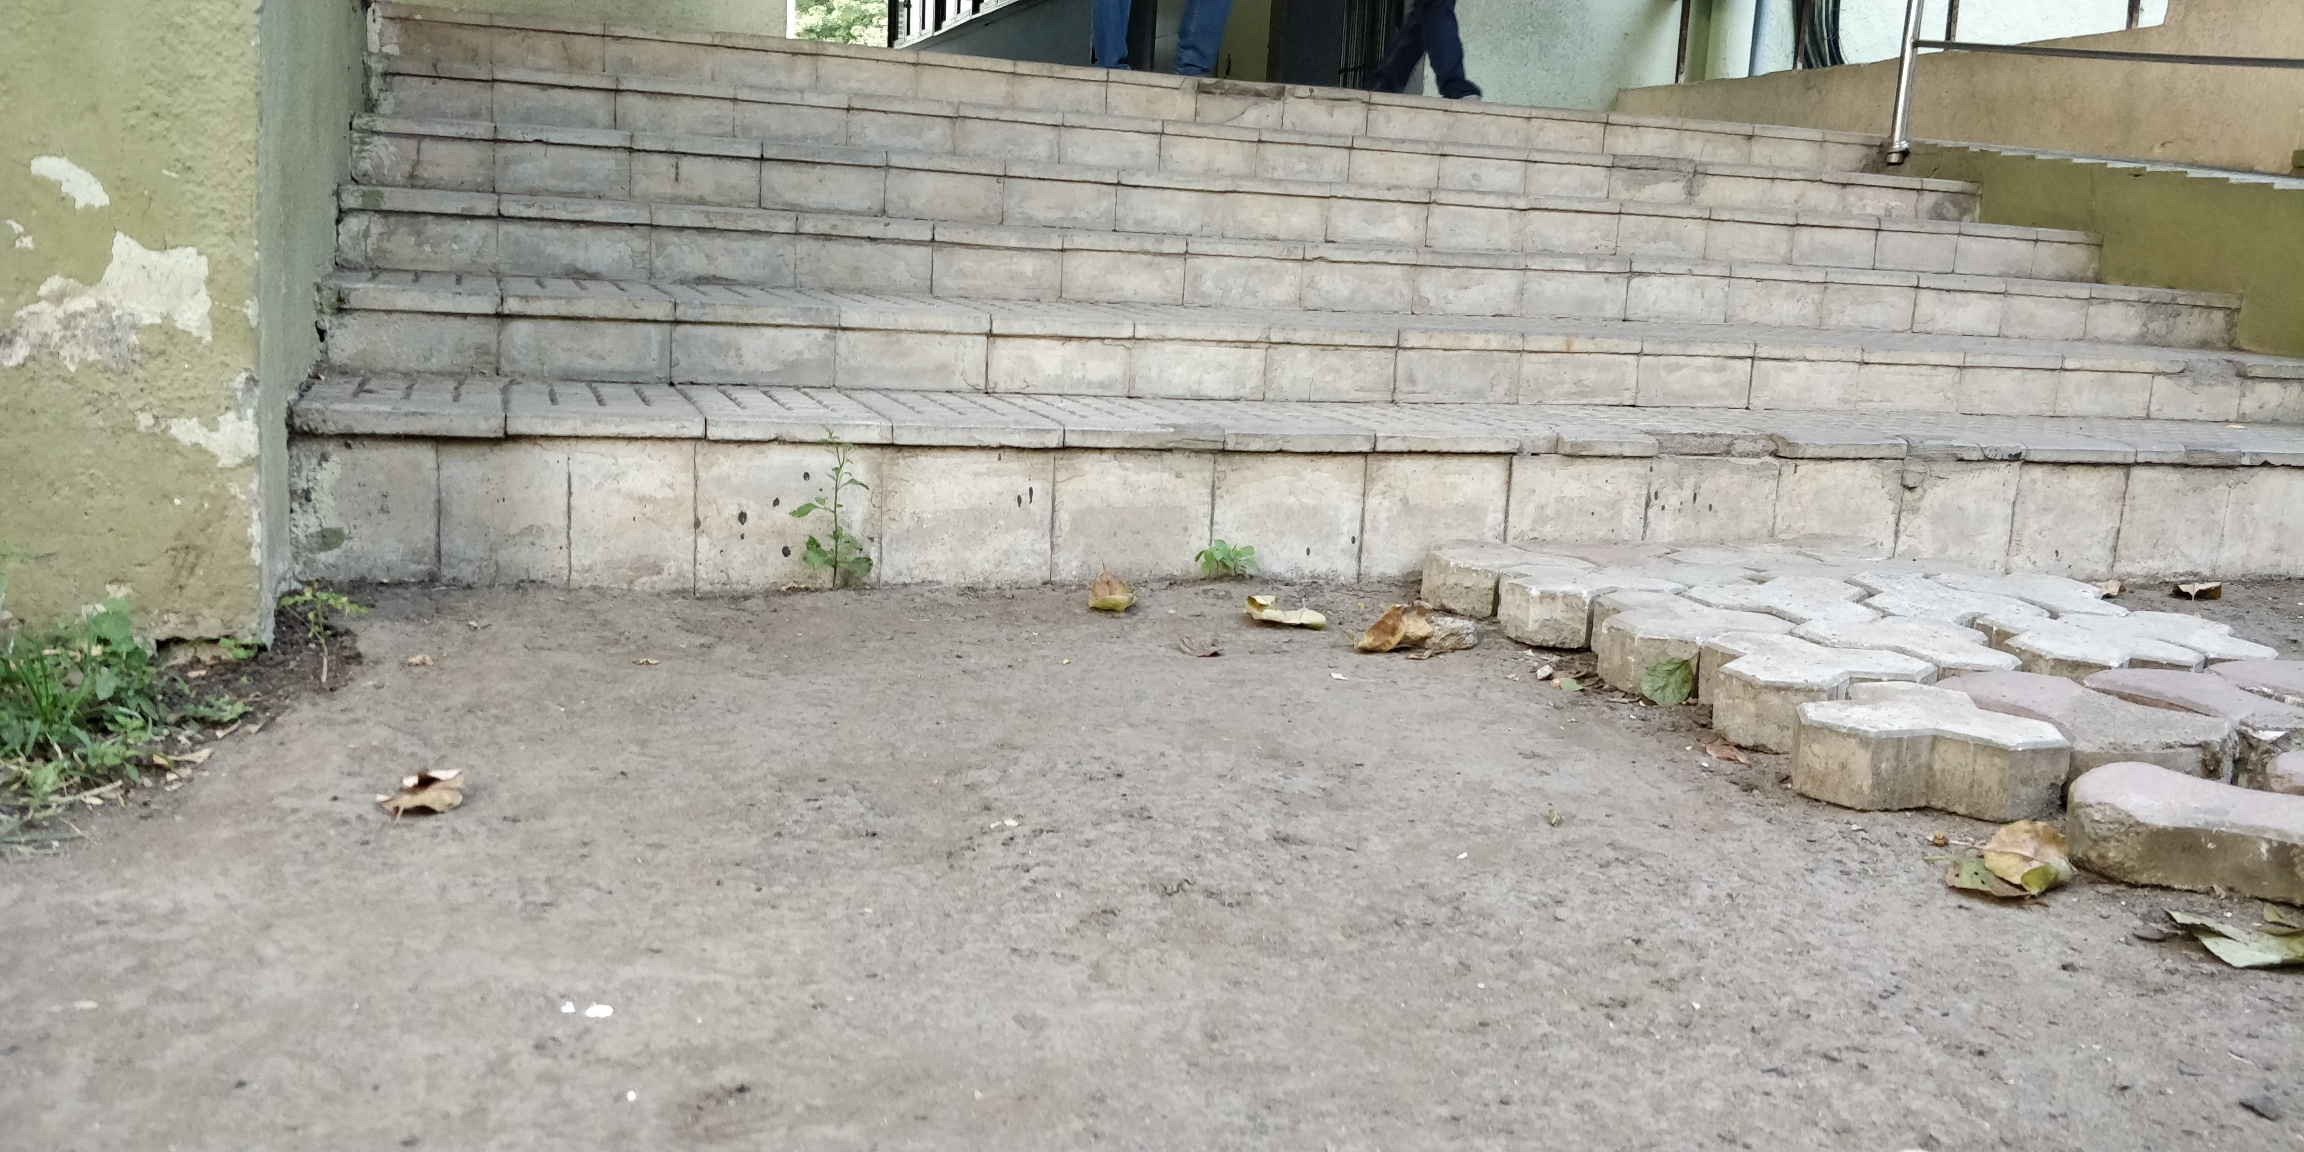stairs_up: (320, 9, 2304, 600)
